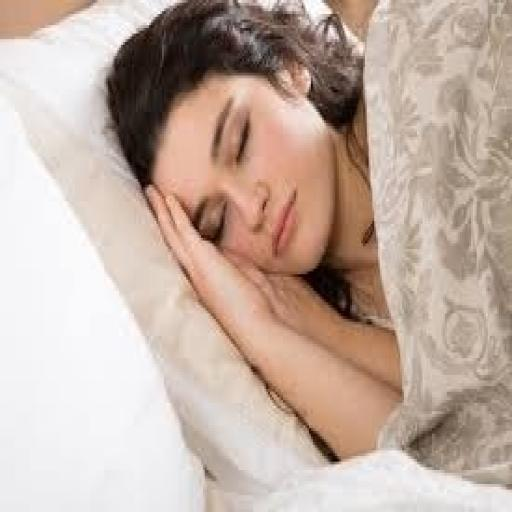sleeping: (102, 0, 404, 462)
